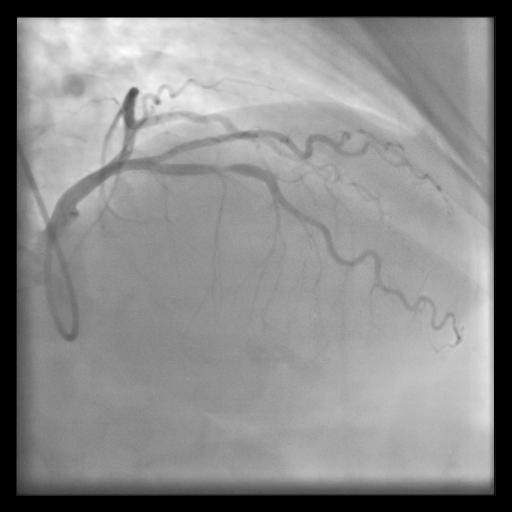Stenosis: (213, 160, 234, 176)
